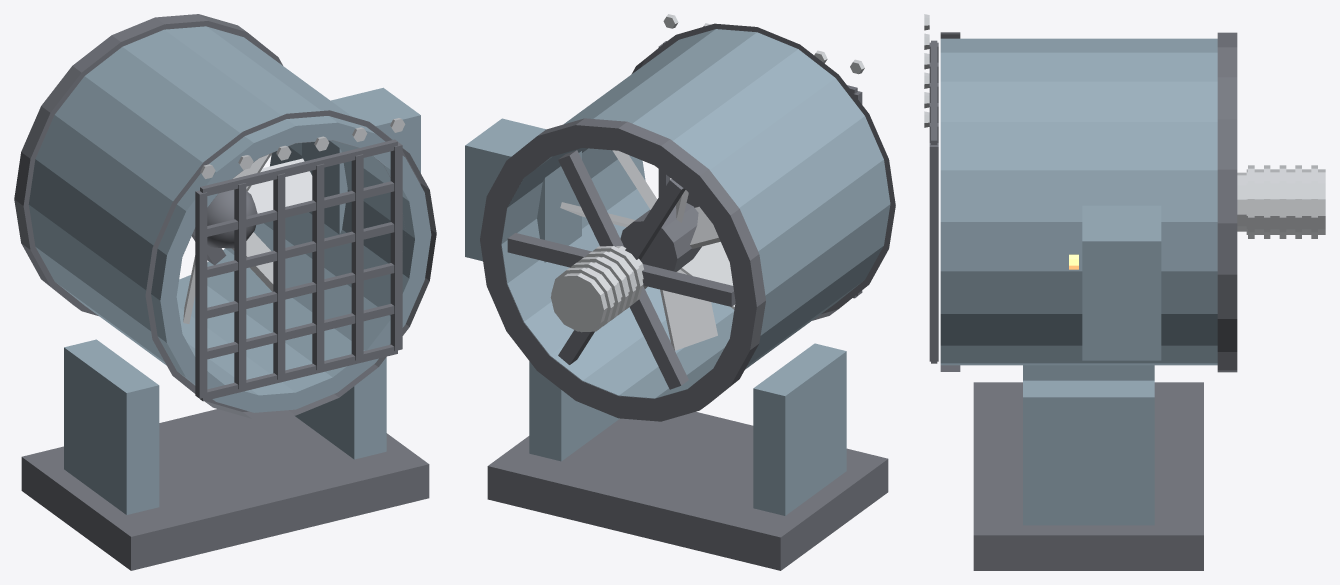
The model's file is animated-mechanisms-kit-extractor-fan-duct-722c7ea9__24620.glb.
3 views of the same model, side by side, from view 1: azimuth 30°, elevation 25°; view 2: azimuth 150°, elevation 25°; view 3: azimuth 270°, elevation 25° (orthographic). The views are drawn at different scales.
Visible parts, largest first — view 1: extractor-fan-duct, impeller/steel, impeller/iron; view 2: extractor-fan-duct, impeller/steel, impeller/iron; view 3: extractor-fan-duct.
Boxes of the visible parts, x1,y1,x2,y2 form: extractor-fan-duct: (14,14,436,570); impeller/steel: (183,153,312,323); impeller/iron: (192,189,257,248); extractor-fan-duct: (465,14,895,570); impeller/steel: (560,150,735,350); impeller/iron: (620,193,701,271); extractor-fan-duct: (924,14,1325,570).
Size of the model in its own units: 1.26 by 1.5 by 1.22.
